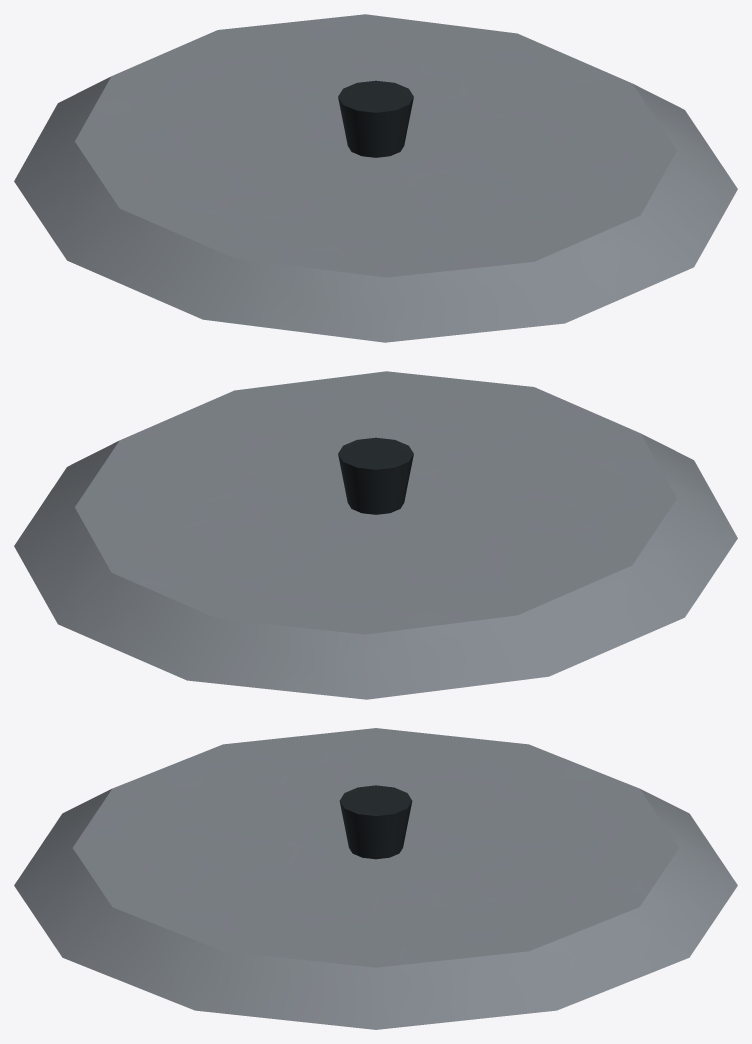
File: Dutch_Over_Cover.fbx
The picture shows the model from 3 angles, top to bottom: view 1: azimuth 30°, elevation 25°; view 2: azimuth 150°, elevation 25°; view 3: azimuth 270°, elevation 25°; orthographic projection. The views are drawn at different scales.
Visible parts, largest first — view 1: Dutch_Over_Cover; view 2: Dutch_Over_Cover; view 3: Dutch_Over_Cover.
Boxes of the visible parts, bbox=[...] form: Dutch_Over_Cover: bbox=[14, 14, 737, 342]; Dutch_Over_Cover: bbox=[14, 371, 737, 699]; Dutch_Over_Cover: bbox=[14, 728, 737, 1029].
Size of the model in its own units: 0.3734 by 0.0511 by 0.3955.
